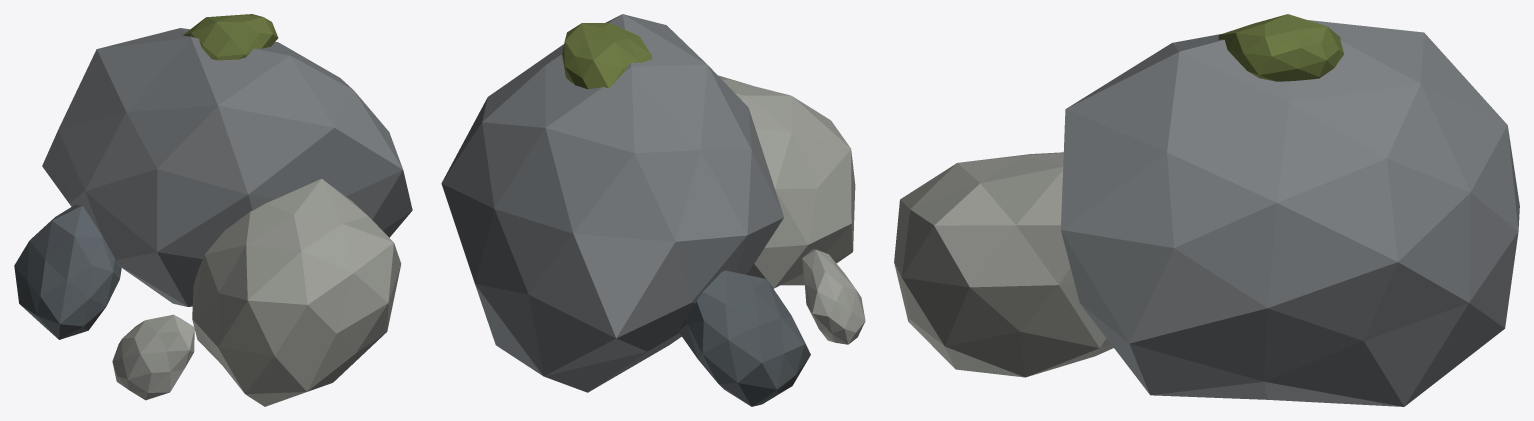
The model's file is 05_boulders.fbx.
3 renders of one model, left to right at view 1: azimuth 30°, elevation 25°; view 2: azimuth 150°, elevation 25°; view 3: azimuth 270°, elevation 25°, orthographic. The views are drawn at different scales.
Visible parts, largest first — view 1: 05_boulders; view 2: 05_boulders; view 3: 05_boulders.
Part boxes in pixels (x1=…): 05_boulders: x1=14, y1=14, x2=412, y2=406; 05_boulders: x1=441, y1=14, x2=865, y2=406; 05_boulders: x1=894, y1=14, x2=1519, y2=406.
Size of the model in its own units: 1.59 by 1.41 by 2.05.
1 material, 1 textured.
